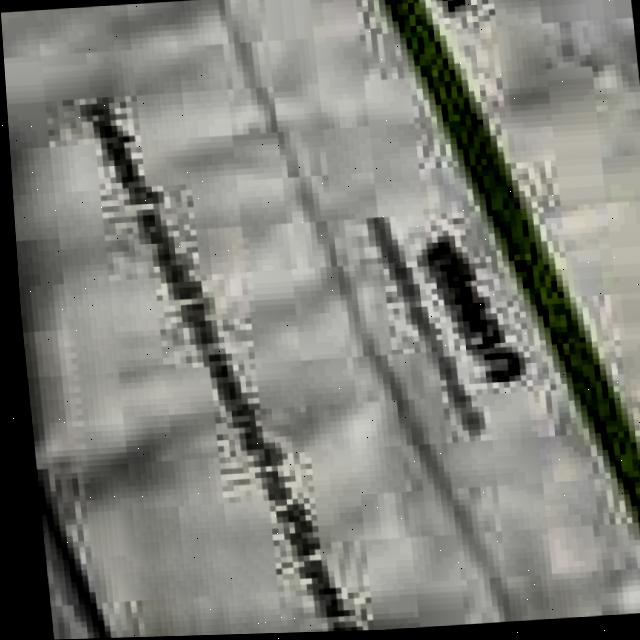paper: (1, 0, 640, 639)
